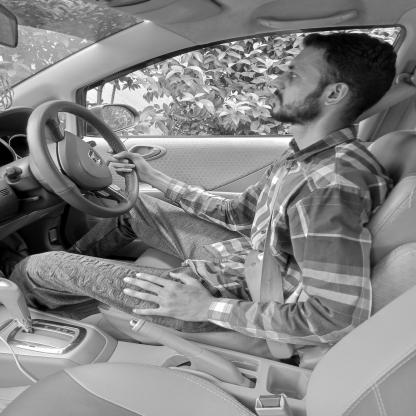seatbelt: (254, 26, 396, 242)
